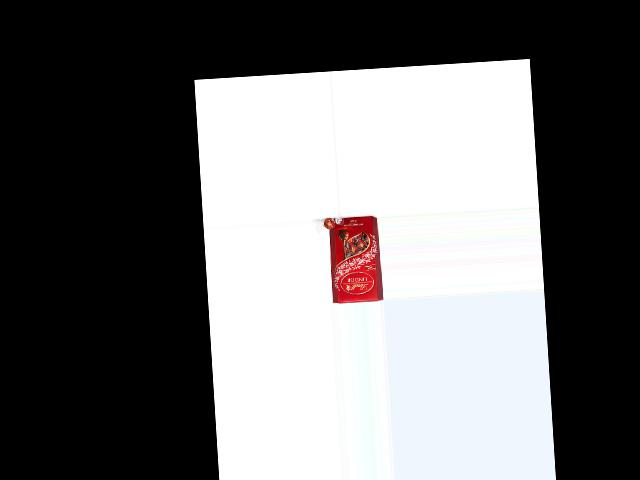chocolate: (322, 215, 382, 304)
